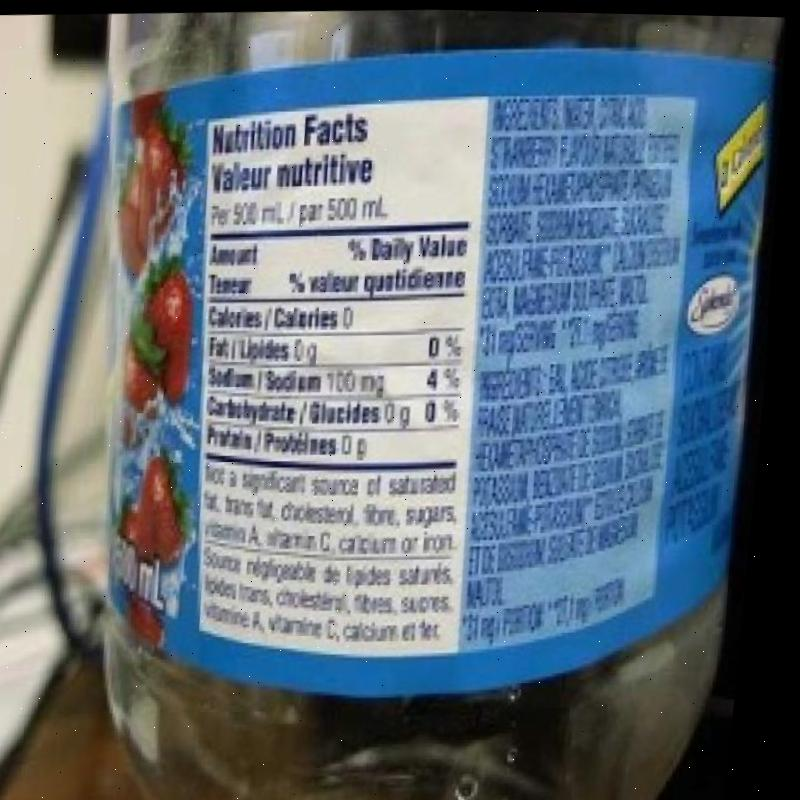botella: (46, 2, 791, 800)
